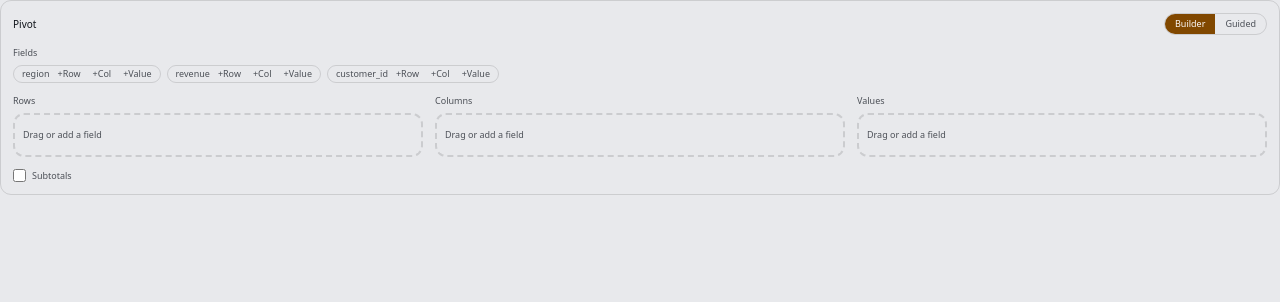
Test: PivotBuilder › adding a field to Rows via the click affordance places it in the well
Click the button titled "Add region to rows" next to "region" at {"x": 69, "y": 74}, box 54,68 -> 85,80
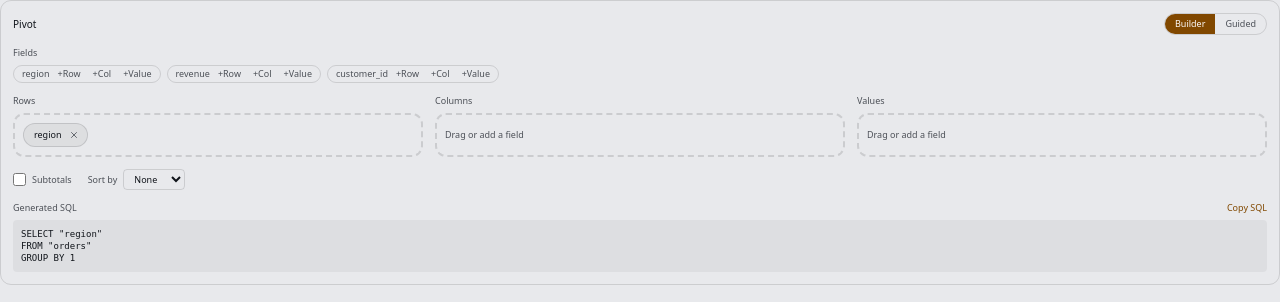
Result: the text "region" below "Rows" is shown at 34,128 -> 62,141
